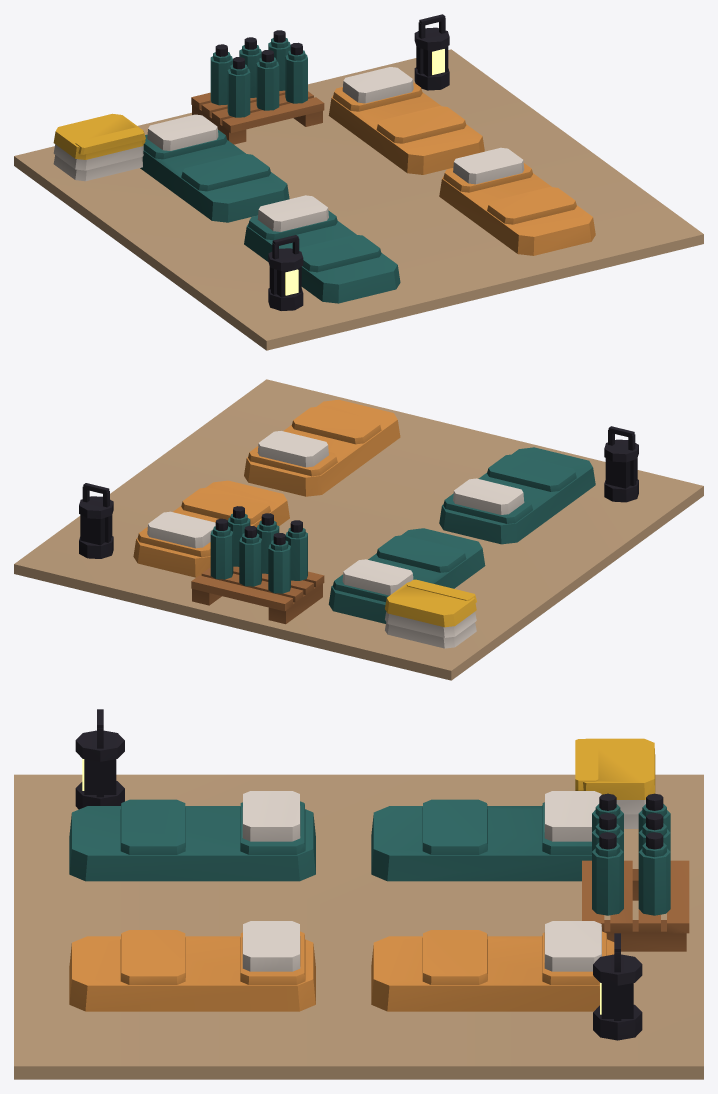
3 renders of one model, top to bottom at view 1: azimuth 30°, elevation 25°; view 2: azimuth 150°, elevation 25°; view 3: azimuth 270°, elevation 25°, orthographic. The views are drawn at different scales.
Visible parts, largest first — view 1: body_pal_khakiLight, body_pal_backpackTeal, body_pal_corgiOrange, body_pal_picketWhite, body_pal_uiDark, body_pal_woodWarm, body_pal_schoolBusYellow, body_emi_windowGlow; view 2: body_pal_khakiLight, body_pal_backpackTeal, body_pal_corgiOrange, body_pal_picketWhite, body_pal_uiDark, body_pal_woodWarm, body_pal_schoolBusYellow; view 3: body_pal_khakiLight, body_pal_backpackTeal, body_pal_corgiOrange, body_pal_picketWhite, body_pal_uiDark, body_pal_woodWarm, body_pal_schoolBusYellow.
Boxes of the visible parts, x1,y1,x2,y2 form: body_pal_khakiLight: [14, 49, 703, 350]; body_pal_backpackTeal: [140, 38, 400, 303]; body_pal_corgiOrange: [328, 82, 595, 255]; body_pal_picketWhite: [53, 67, 524, 231]; body_pal_uiDark: [215, 14, 449, 310]; body_pal_woodWarm: [191, 90, 324, 144]; body_pal_schoolBusYellow: [53, 113, 145, 159]; body_emi_windowGlow: [285, 49, 444, 295]; body_pal_khakiLight: [14, 379, 703, 680]; body_pal_backpackTeal: [210, 447, 595, 623]; body_pal_corgiOrange: [133, 399, 400, 577]; body_pal_picketWhite: [147, 431, 524, 648]; body_pal_uiDark: [79, 426, 638, 558]; body_pal_woodWarm: [191, 566, 324, 624]; body_pal_schoolBusYellow: [385, 579, 476, 627]; body_pal_khakiLight: [14, 774, 703, 1079]; body_pal_backpackTeal: [69, 799, 670, 915]; body_pal_corgiOrange: [69, 930, 614, 1011]; body_pal_picketWhite: [242, 791, 645, 971]; body_pal_uiDark: [75, 709, 663, 1040]; body_pal_woodWarm: [582, 860, 689, 951]; body_pal_schoolBusYellow: [575, 738, 655, 799].
Size of the model in its own units: 5.6 by 1.05 by 5.6.
